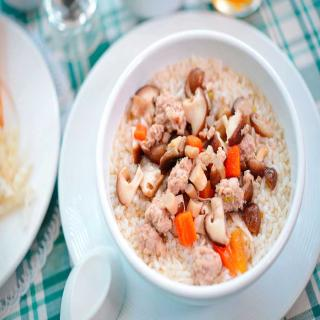boiled_rice: (95, 45, 308, 289)
carbs: (151, 52, 270, 104), (252, 174, 302, 257)
meat: (142, 194, 174, 266), (154, 90, 187, 143), (212, 174, 245, 217), (192, 245, 222, 283), (166, 157, 194, 195)
veg: (188, 71, 278, 189), (122, 156, 165, 203)
